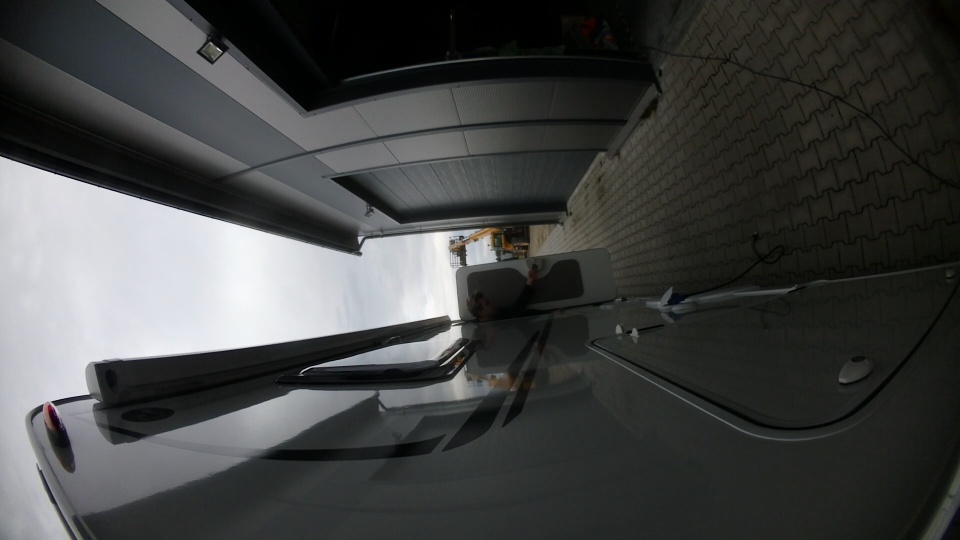door_back: (453, 243, 629, 321)
